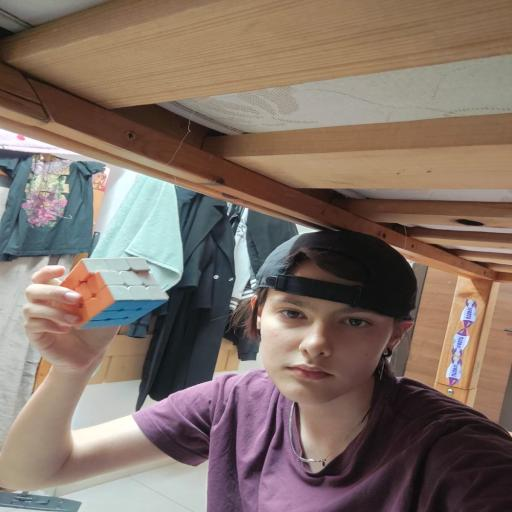Rubiks Cube: (54, 257, 170, 329)
